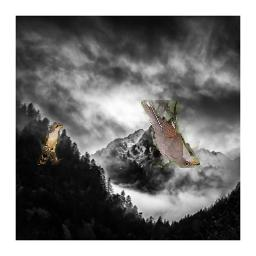Cuckoo: (142, 100, 201, 168), (37, 123, 63, 165)
